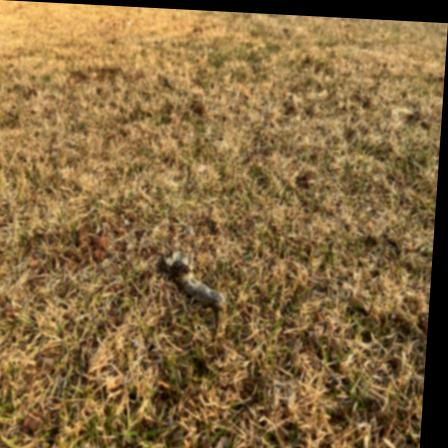dog-poop: (158, 255, 233, 306)
